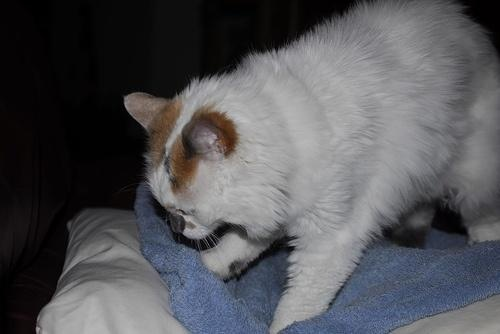cat: (125, 2, 500, 334)
